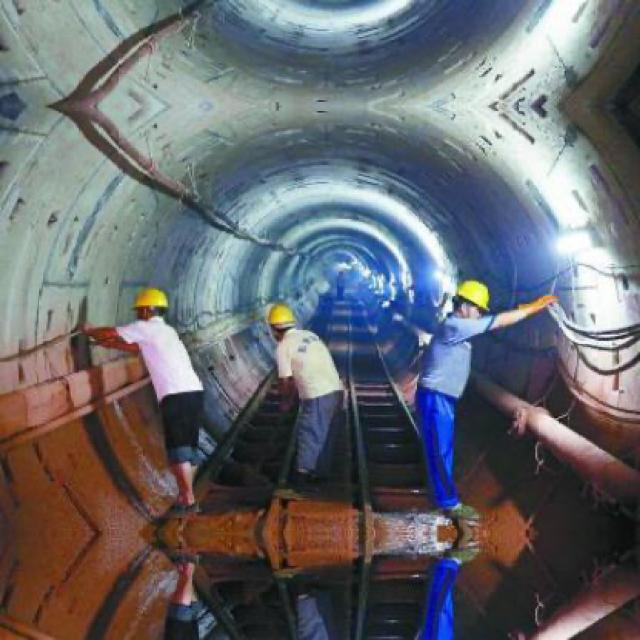helmet: (452, 277, 491, 324), (132, 284, 171, 322), (264, 302, 294, 342)
